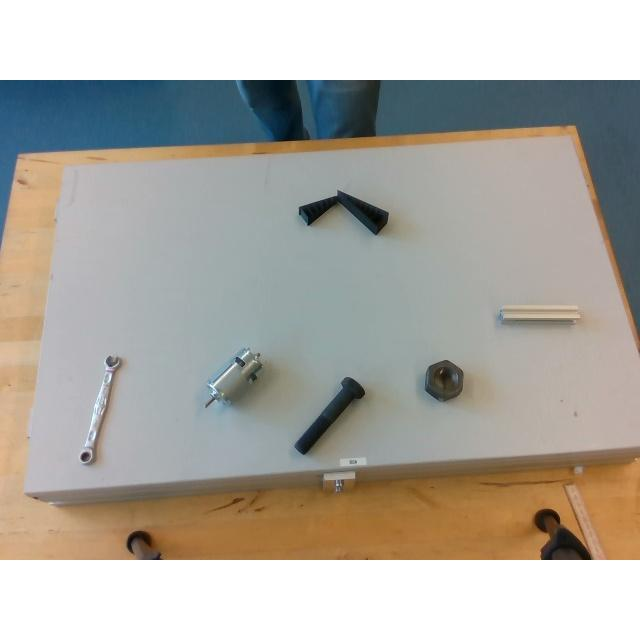F20_20_G: (499, 304, 579, 320)
M20_100: (294, 377, 364, 453)
M30: (425, 360, 463, 400)
Motor2: (202, 346, 262, 406)
Wrench: (78, 354, 120, 462)
